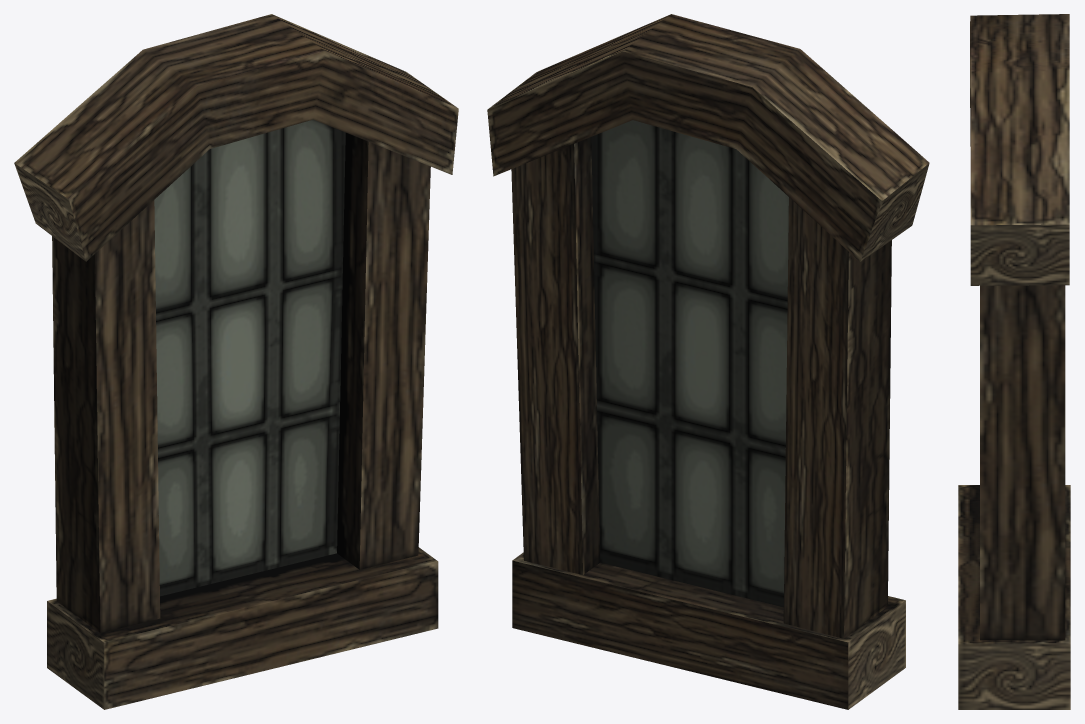
Rendered from Window_04.fbx.
3 renders of one model, left to right at view 1: azimuth 30°, elevation 25°; view 2: azimuth 150°, elevation 25°; view 3: azimuth 270°, elevation 25°, orthographic. The views are drawn at different scales.
Parts seen in each view (by area): view 1: Window_04; view 2: Window_04; view 3: Window_04.
Part boxes in pixels (x1,y1,x2,y2): Window_04: (14, 14, 458, 709); Window_04: (487, 14, 929, 709); Window_04: (958, 14, 1070, 709).
Bounding box in the file's own units: 1.52 × 2.22 × 0.3843.
